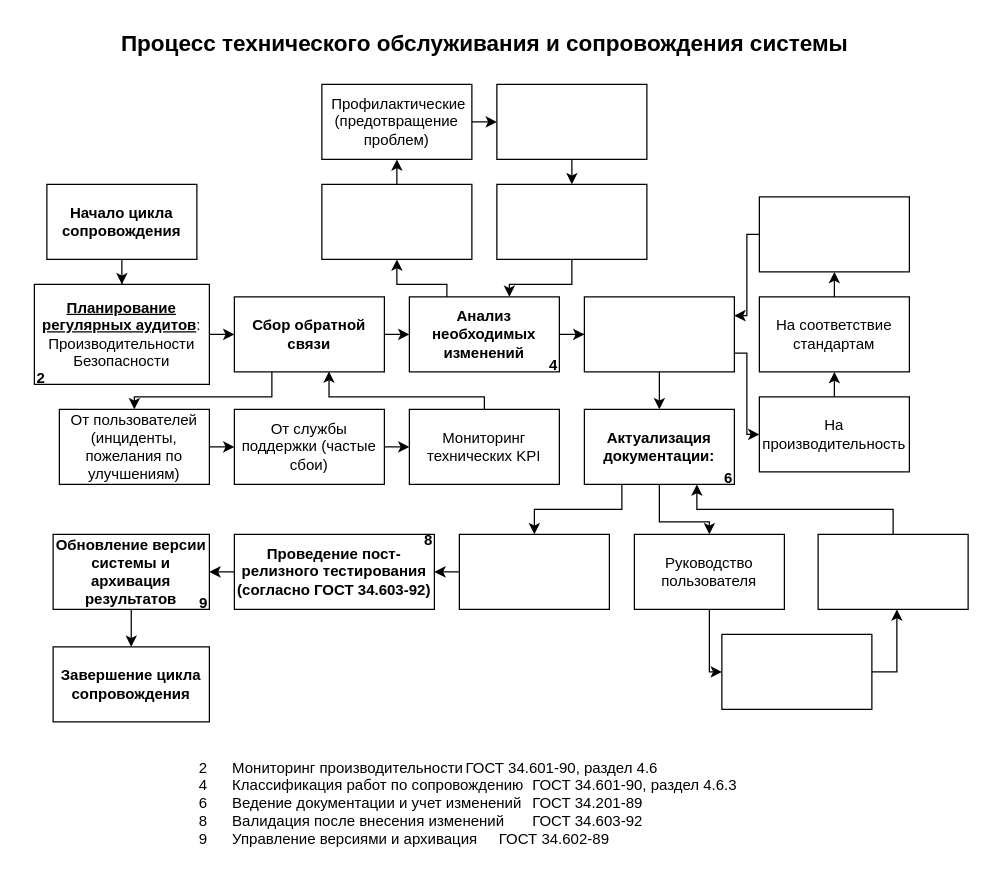
Image size: 990x880. Some labels were removed from this diagram. Each missing label, with the centre of its shape:
Адаптационные (поддержка новых сред): point 571,121
Внедрение утвержденных изменений: point 533,571
Журнал изменений: point 892,571
Корректирующие (устранение дефектов): point 396,221
На безопасность: point 833,234
Оценка воздействия изменений: point 658,334
Регламенты технического обслуживания: point 796,671
Эволюционные (новый функционал): point 571,221
